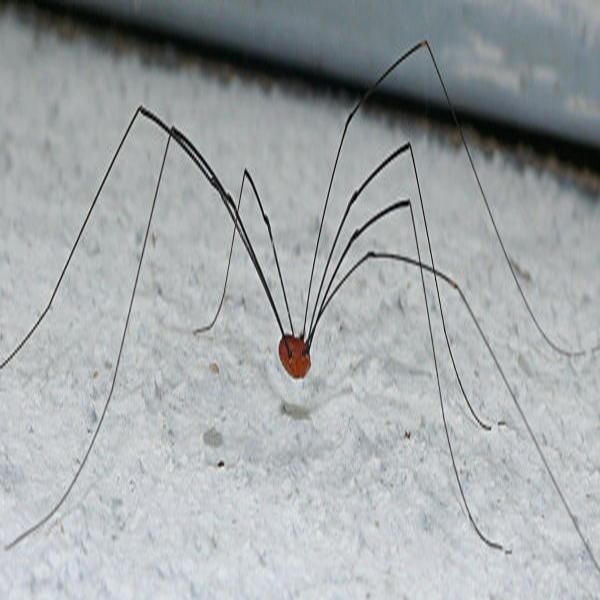Daddy Long Legs Spider: (34, 39, 596, 565)
